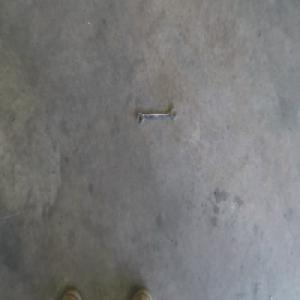Wrench: (134, 108, 178, 127)
